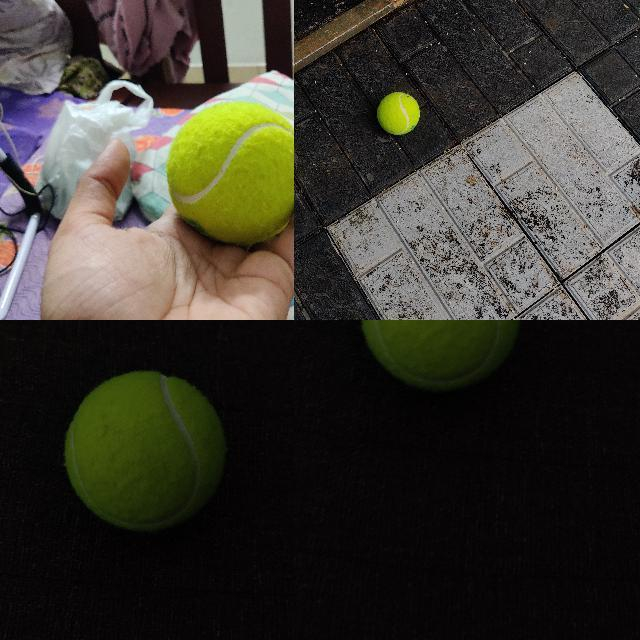tennis-ball: (62, 370, 226, 528), (167, 101, 293, 242), (359, 320, 521, 392), (376, 91, 420, 135)
